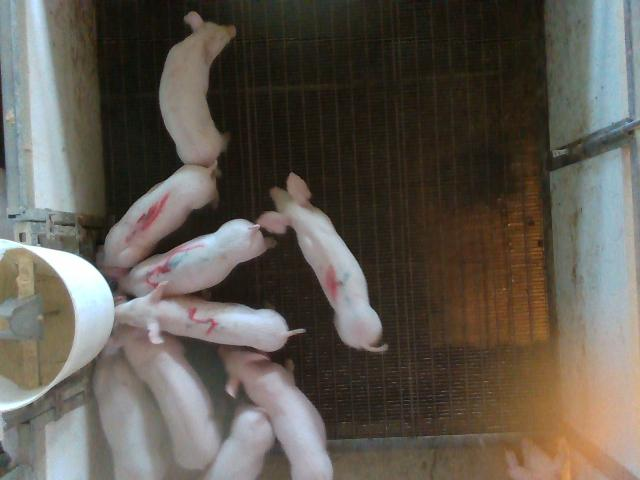pig-1: (96, 165, 216, 269)
pig-3: (100, 219, 275, 297)
pig-4: (258, 172, 388, 352)
pig-5: (115, 284, 304, 351)
